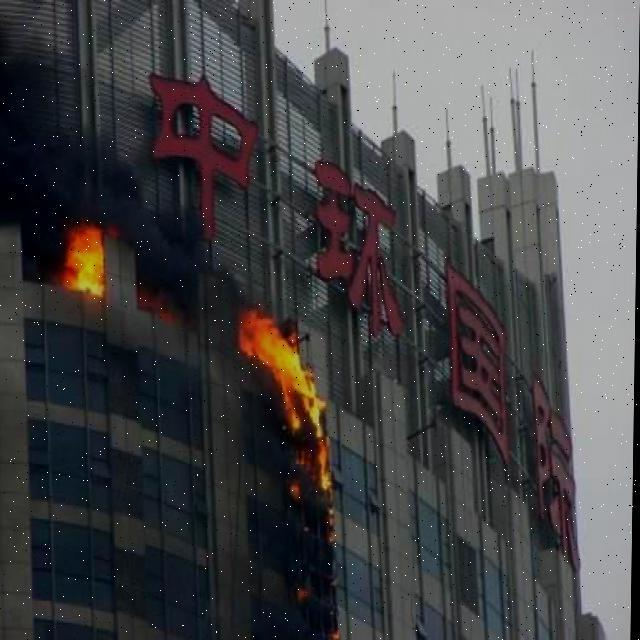Fire: (233, 306, 347, 620), (62, 215, 118, 295)
